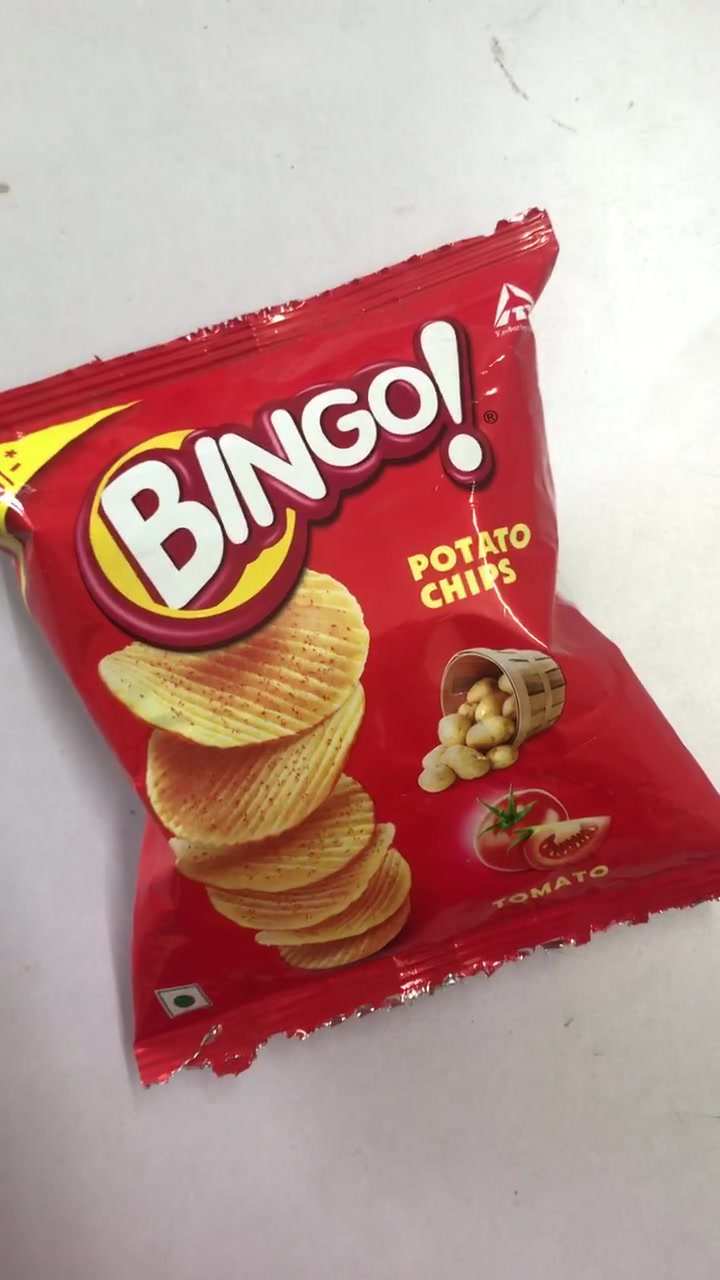Bingo: (3, 225, 720, 1064)
